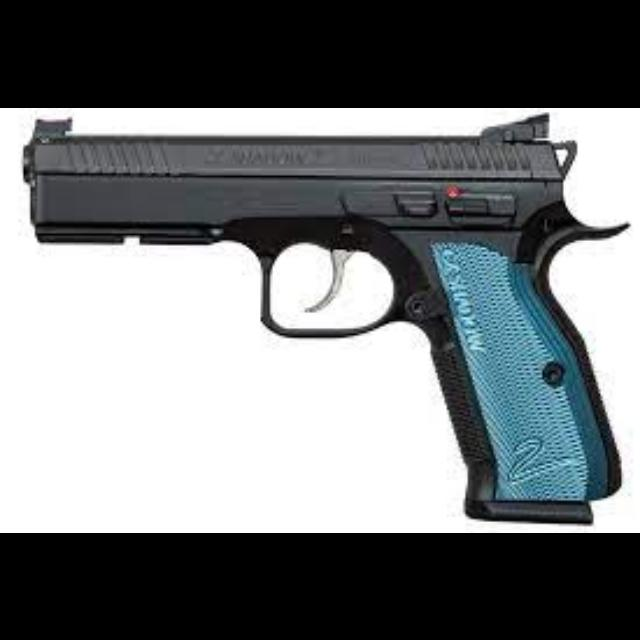handgun: (18, 109, 634, 532)
